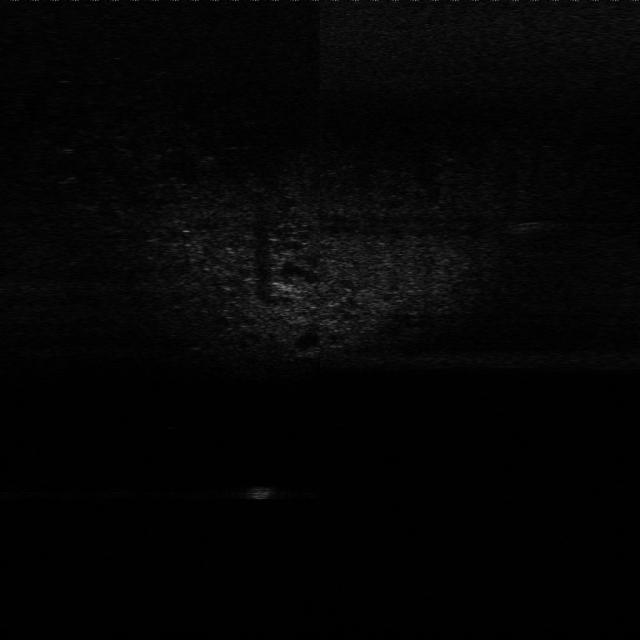cylinder: (246, 479, 276, 502)
